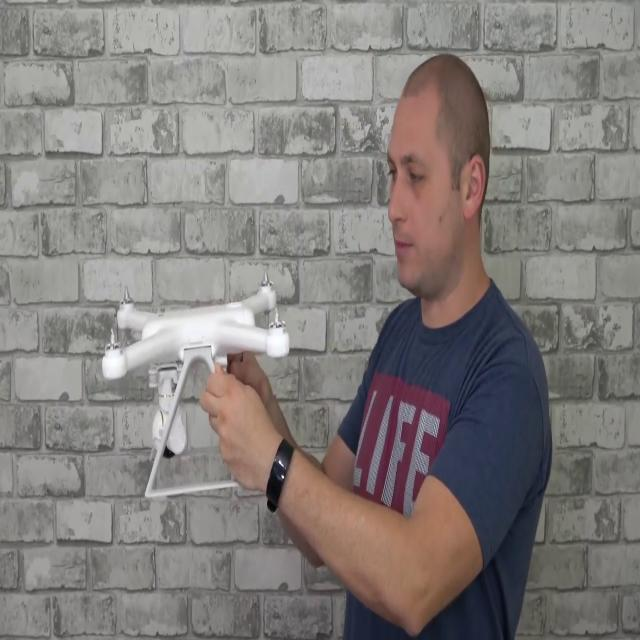drone: (96, 277, 318, 520)
